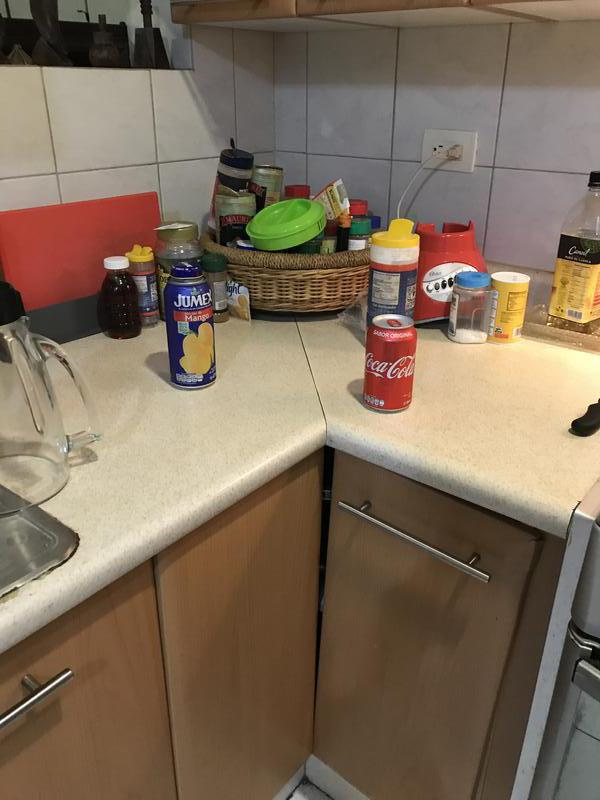coca_cola: (362, 315, 417, 413)
jugo_jumex: (162, 260, 220, 388)
